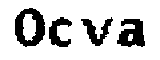0: (11, 5, 48, 50)
a: (117, 14, 147, 49)
c: (51, 15, 75, 50)
v: (80, 16, 113, 48)
